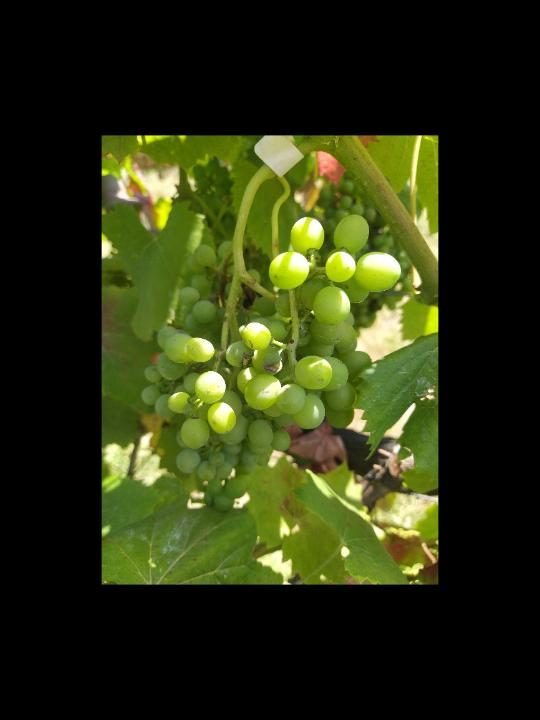grape: (140, 213, 403, 512)
